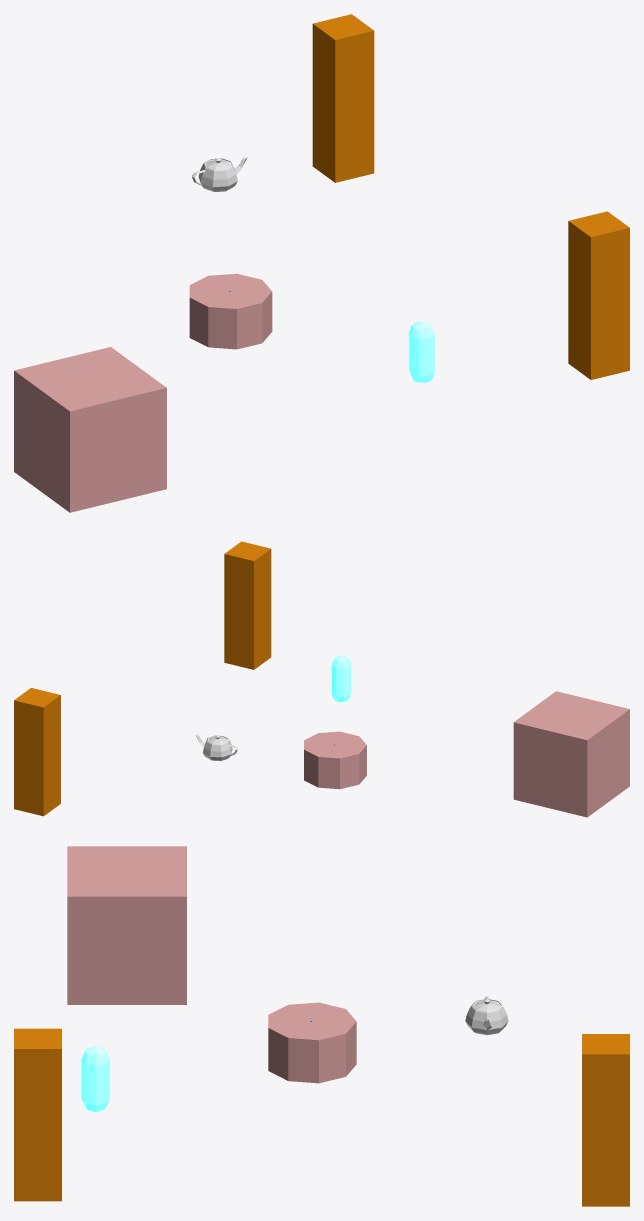
The model's file is level1.glb.
3 views of the same model, one above another, from view 1: azimuth 30°, elevation 25°; view 2: azimuth 150°, elevation 25°; view 3: azimuth 270°, elevation 25° (orthographic). The views are drawn at different scales.
Parts seen in each view (by area): view 1: container_sensor, Pillar_geometry (×2), player_sensor, Health_Pickup_geometry, MagicTeapot; view 2: container_sensor, Pillar_geometry (×2), player_sensor, Health_Pickup_geometry, MagicTeapot; view 3: container_sensor, Pillar_geometry (×2), player_sensor, Health_Pickup_geometry, MagicTeapot.
Boxes of the visible parts, box(x1,y1,x2,y2) form: container_sensor: box(14, 347, 166, 512); Pillar_geometry (×2): box(312, 14, 629, 379); player_sensor: box(189, 273, 272, 349); Health_Pickup_geometry: box(409, 321, 435, 382); MagicTeapot: box(192, 157, 247, 191); container_sensor: box(513, 691, 629, 817); Pillar_geometry (×2): box(14, 541, 271, 816); player_sensor: box(304, 731, 366, 789); Health_Pickup_geometry: box(331, 655, 351, 702); MagicTeapot: box(195, 734, 237, 761); container_sensor: box(67, 846, 186, 1004); Pillar_geometry (×2): box(14, 1028, 629, 1206); player_sensor: box(268, 1002, 356, 1083); Health_Pickup_geometry: box(81, 1046, 109, 1112); MagicTeapot: box(465, 996, 508, 1035).
Size of what is drawn, in the model's own units: 27.96 by 8.47 by 25.63.
